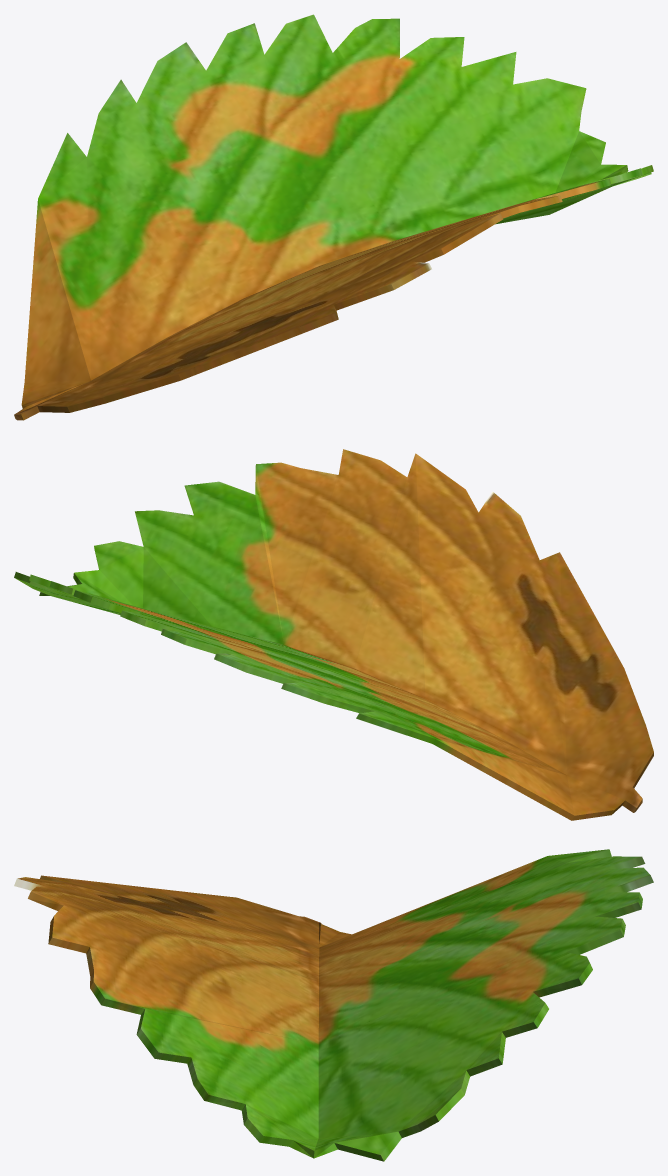
File: leaf1_s3.dae
3 renders of one model, top to bottom at view 1: azimuth 30°, elevation 25°; view 2: azimuth 150°, elevation 25°; view 3: azimuth 270°, elevation 25°, orthographic. The views are drawn at different scales.
Visible parts, largest first — view 1: Plane; view 2: Plane; view 3: Plane.
Part boxes in pixels (x1,y1,x2,y2): Plane: (14,14,653,420); Plane: (14,449,653,820); Plane: (14,849,653,1161).
Bounding box in the file's own units: 0.1327 × 0.101 × 0.0426.
1 material, 1 textured.
